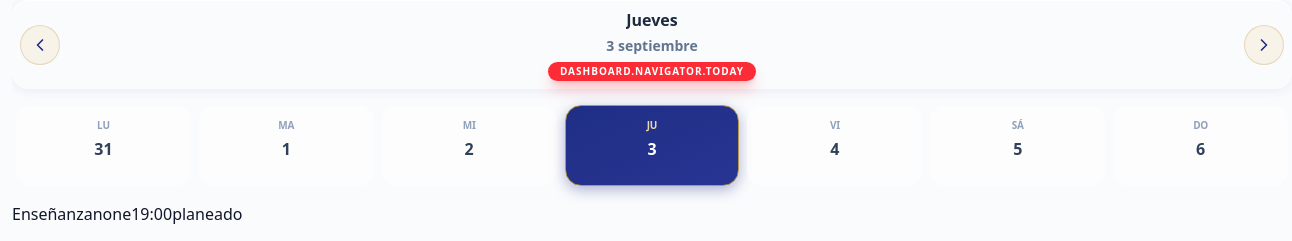
Test: CultoNavigator › ignora la respuesta lenta de un día si el usuario ya saltó a otro
expect the element with test id "dashboard-nav-date" is shown: met, box left=548, top=9, right=756, bottom=81
Click the button with test id "dashboard-nav-next" at (1264, 44), box left=1244, top=24, right=1284, bottom=64
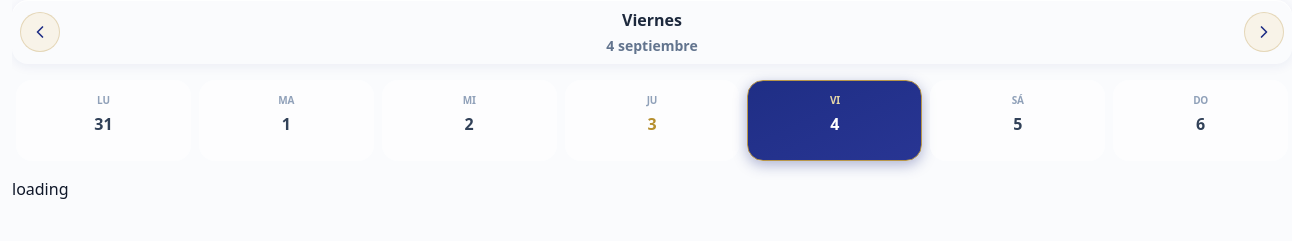
Click the button with test id "dashboard-nav-next" at (1264, 32), box left=1244, top=12, right=1284, bottom=52
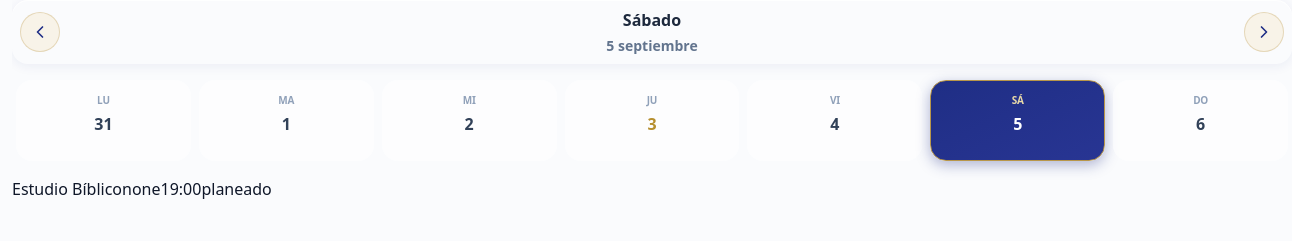
expect the text with test id "culto-nombre" reads "Estudio Bíblico": met, box left=12, top=178, right=122, bottom=200
